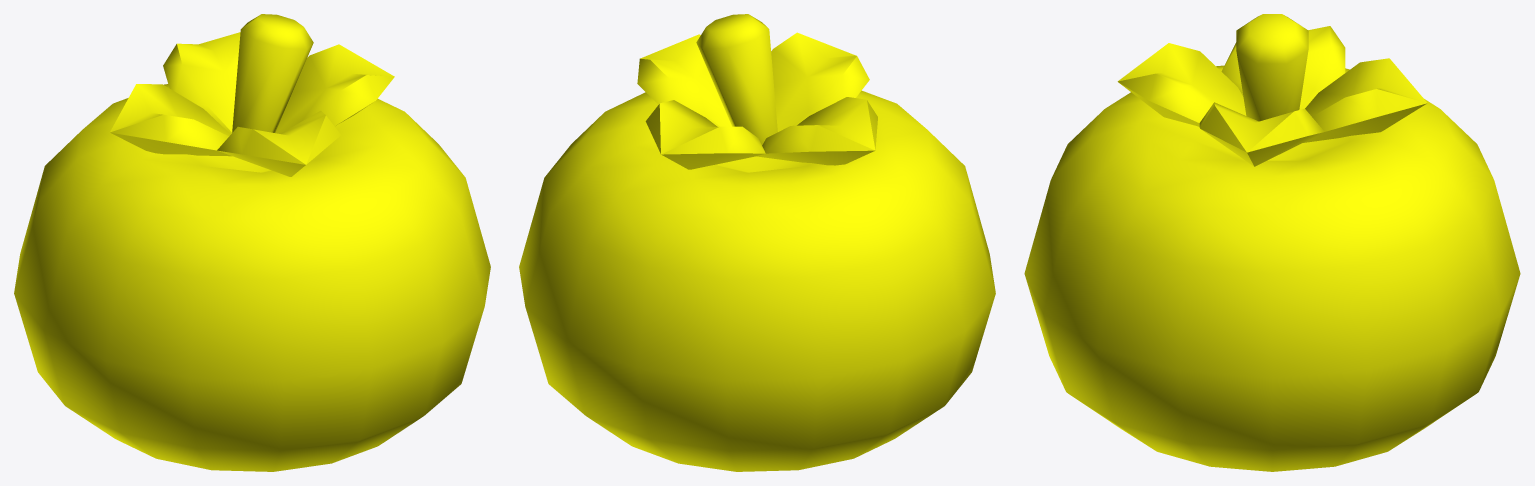
File: kaykit-food-ingredient-tomato.glb
3 renders of one model, left to right at view 1: azimuth 30°, elevation 25°; view 2: azimuth 150°, elevation 25°; view 3: azimuth 270°, elevation 25°, orthographic. The views are drawn at different scales.
Parts seen in each view (by area): view 1: food_ingredient_tomato; view 2: food_ingredient_tomato; view 3: food_ingredient_tomato.
Boxes of the visible parts, box(x1,y1,x2,y2) form: food_ingredient_tomato: box(14, 14, 490, 471); food_ingredient_tomato: box(519, 14, 995, 471); food_ingredient_tomato: box(1024, 14, 1520, 471).
Bounding box in the file's own units: 0.75 × 0.7 × 0.75.
